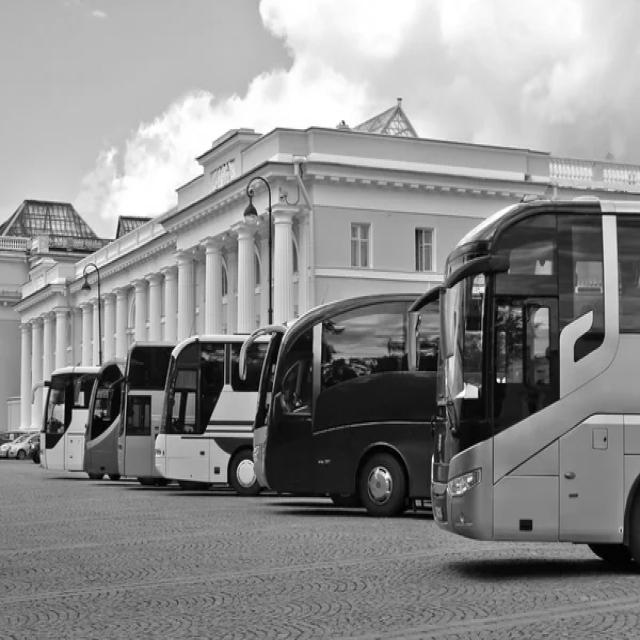Bus: (432, 198, 640, 564), (250, 292, 440, 516), (154, 335, 268, 496), (117, 341, 176, 485), (40, 369, 98, 471), (83, 358, 126, 480)
